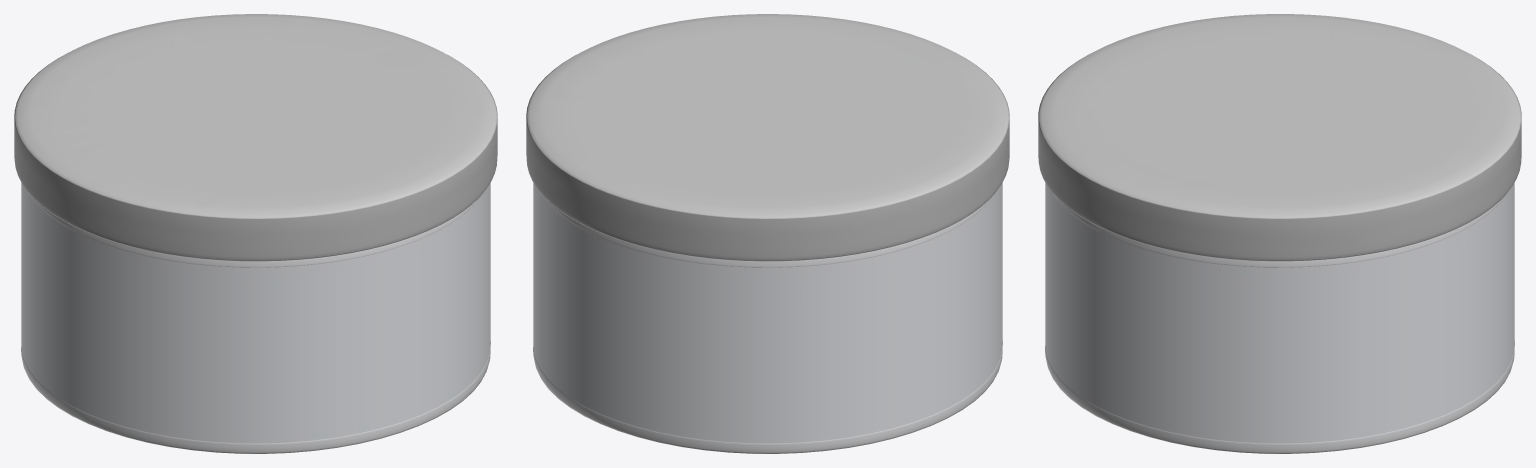
File: abo-B07DBHC39X.glb
The picture shows the model from 3 angles, left to right: view 1: azimuth 30°, elevation 25°; view 2: azimuth 150°, elevation 25°; view 3: azimuth 270°, elevation 25°; orthographic projection.
Size of the model in its own units: 0.393 by 0.229 by 0.393.
1 material, 1 textured.
